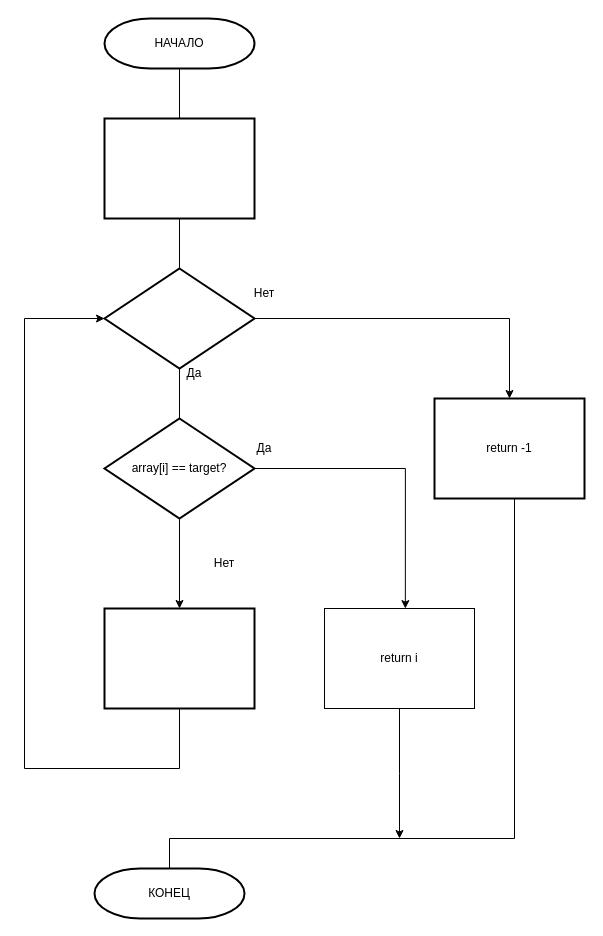
Image size: 603x936. Some labels were removed from this diagram. The shapes that lost their labels are listed below. From the top down, each one's box as (x1, y1, x2, y2) in pixels, then its label:
(103, 117, 255, 219): i = 0
(103, 267, 255, 369): i < array.Length?
(103, 607, 255, 709): i++
